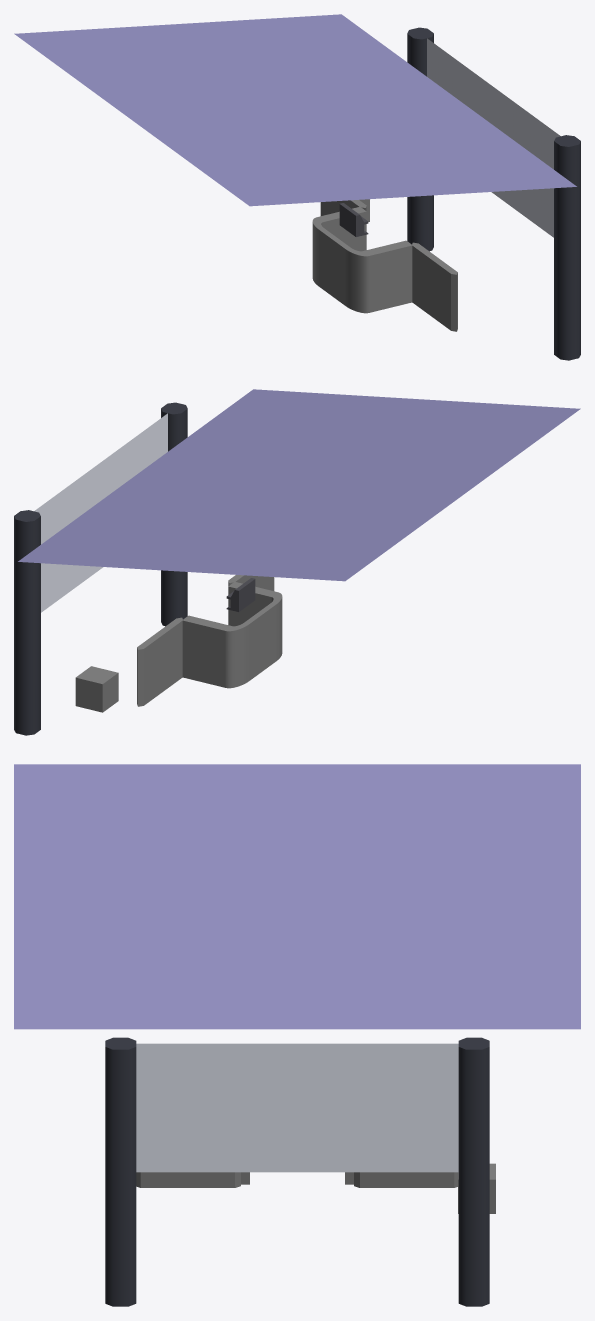
Rendered from Music-Space-v2 - realtime.fbx.
3 renders of one model, top to bottom at view 1: azimuth 30°, elevation 25°; view 2: azimuth 150°, elevation 25°; view 3: azimuth 270°, elevation 25°, orthographic. The views are drawn at different scales.
Visible parts, largest first — view 1: mergedBlocks; view 2: mergedBlocks; view 3: mergedBlocks.
Boxes of the visible parts, x1=… form: mergedBlocks: x1=14, y1=14, x2=580, y2=360; mergedBlocks: x1=14, y1=389, x2=580, y2=735; mergedBlocks: x1=14, y1=764, x2=580, y2=1306.
Size of the model in its own units: 274 by 189 by 300.
